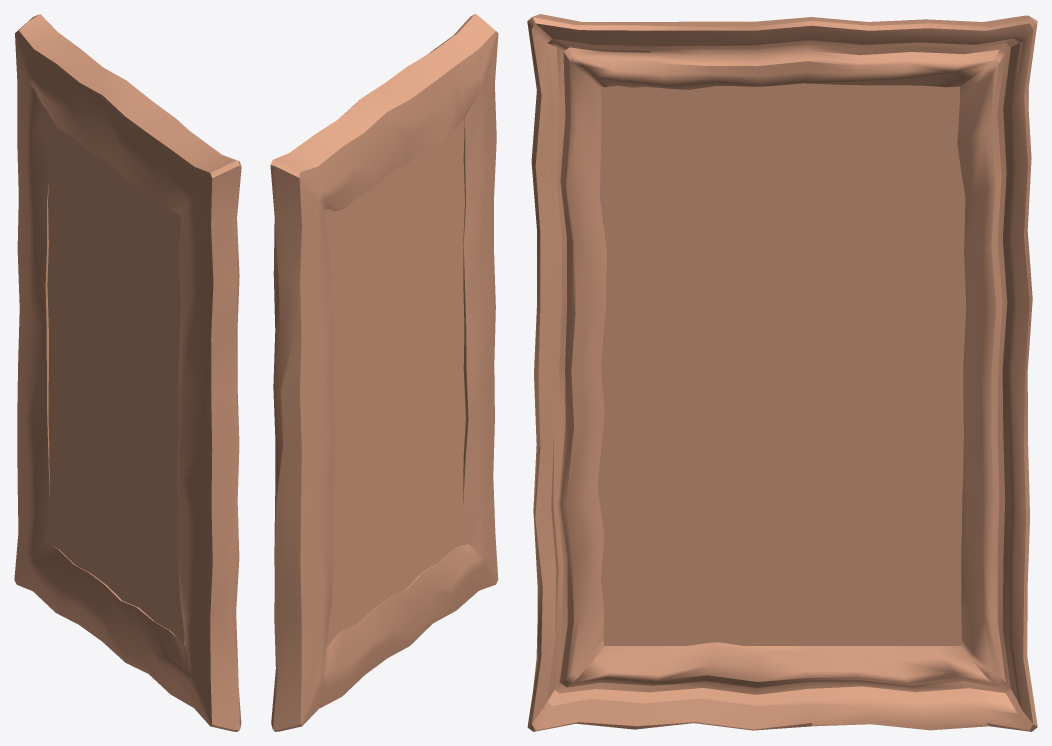
File: tablo.fbx
3 views of the same model, side by side, from view 1: azimuth 30°, elevation 25°; view 2: azimuth 150°, elevation 25°; view 3: azimuth 270°, elevation 25° (orthographic). The views are drawn at different scales.
Visible parts, largest first — view 1: Cadre; view 2: Cadre; view 3: tablo1, Cadre.
Boxes of the visible parts, x1,y1,x2,y2 form: Cadre: (14, 14, 241, 731); Cadre: (270, 14, 498, 731); tablo1: (597, 83, 966, 645); Cadre: (527, 14, 1037, 731).
Bounding box in the file's own units: 0.6918 × 11.72 × 7.59.
